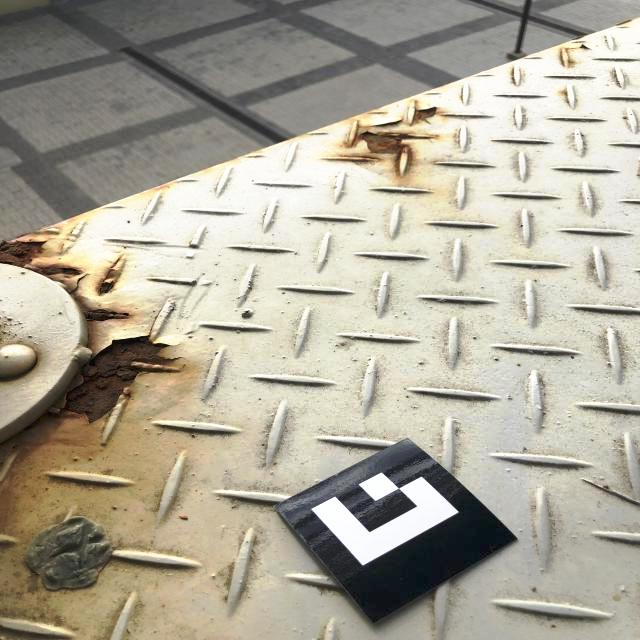Corrosion: (29, 321, 188, 430), (0, 232, 83, 280), (343, 130, 419, 162), (95, 257, 122, 294), (83, 306, 132, 324), (410, 101, 438, 126), (344, 156, 382, 160)
